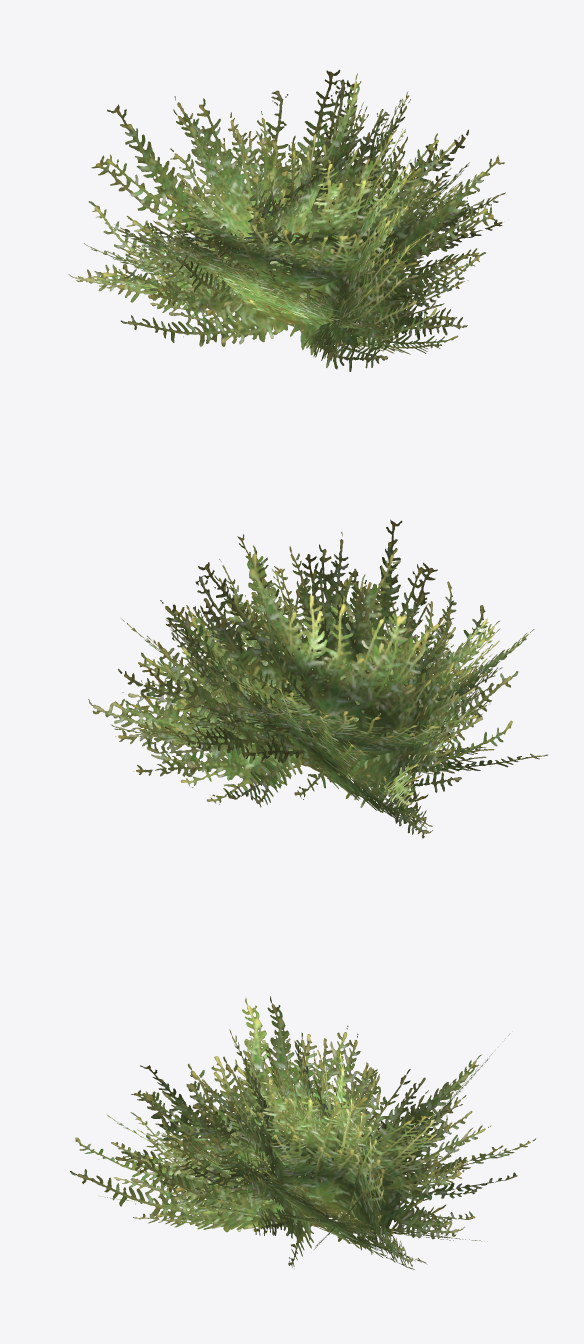
The model's file is shrb_arid_green_a1_l0.fbx.
3 renders of one model, top to bottom at view 1: azimuth 30°, elevation 25°; view 2: azimuth 150°, elevation 25°; view 3: azimuth 270°, elevation 25°, orthographic. The views are drawn at different scales.
Visible parts, largest first — view 1: mesh_node; view 2: mesh_node; view 3: mesh_node.
Part boxes in pixels (x1=…): mesh_node: x1=68, y1=69, x2=505, y2=371; mesh_node: x1=88, y1=519, x2=547, y2=838; mesh_node: x1=70, y1=996, x2=535, y2=1269.
Size of the model in its own units: 3.9 by 1.94 by 3.8.
